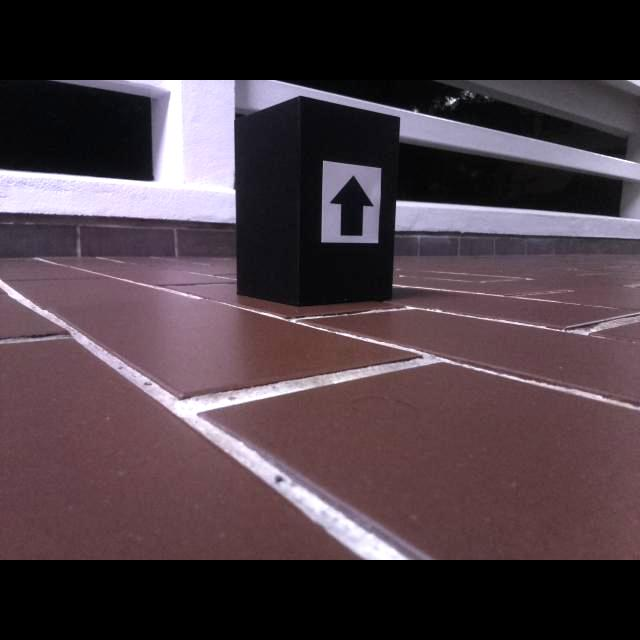UP: (328, 174, 375, 237)
